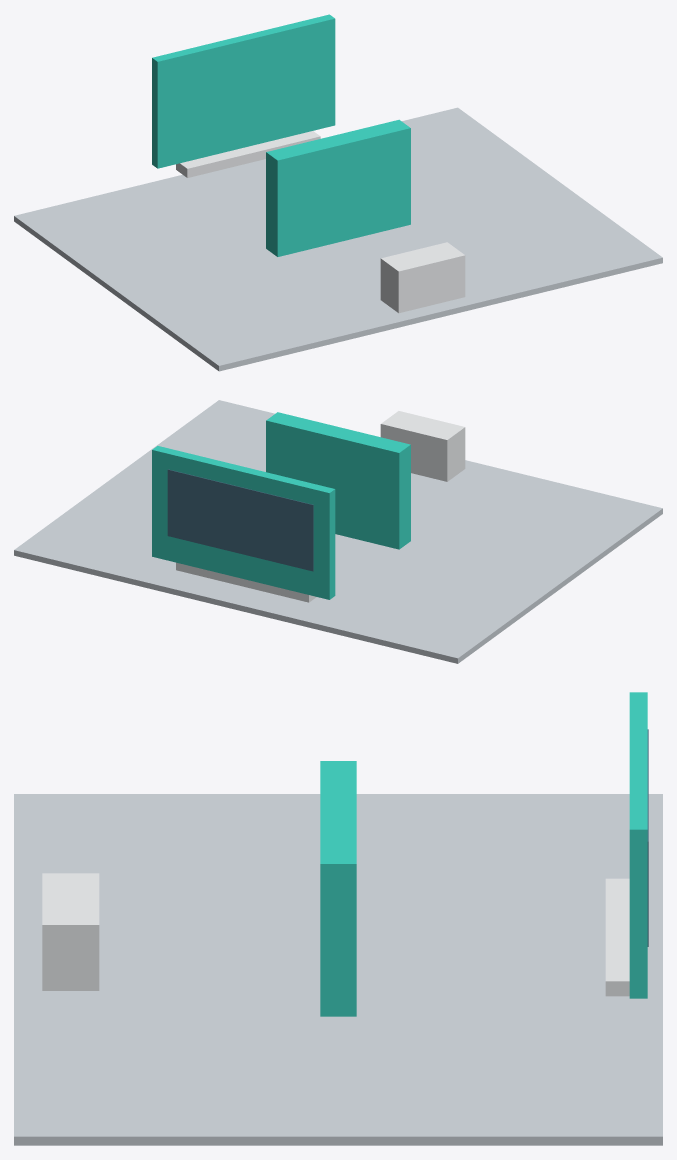
3 views of the same model, one above another, from view 1: azimuth 30°, elevation 25°; view 2: azimuth 150°, elevation 25°; view 3: azimuth 270°, elevation 25° (orthographic). The views are drawn at different scales.
Parts seen in each view (by area): view 1: Exhibition Booth Concept; view 2: Exhibition Booth Concept; view 3: Exhibition Booth Concept.
Part boxes in pixels (<box>): Exhibition Booth Concept: <box>14,14,662,371</box>; Exhibition Booth Concept: <box>14,400,662,663</box>; Exhibition Booth Concept: <box>14,692,662,1145</box>.
Bounding box in the file's own units: 10 × 2.9 × 8.
